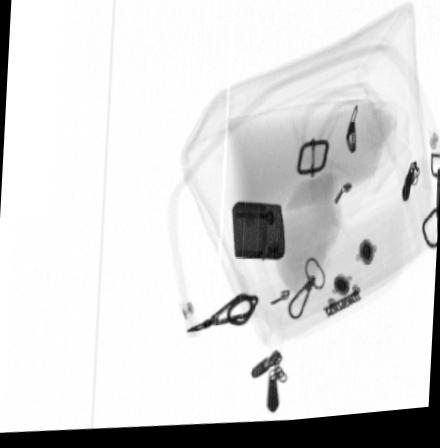Lighter: (232, 206, 286, 267)
